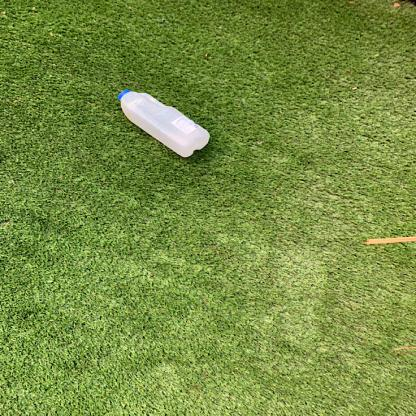trash: (117, 88, 211, 159)
